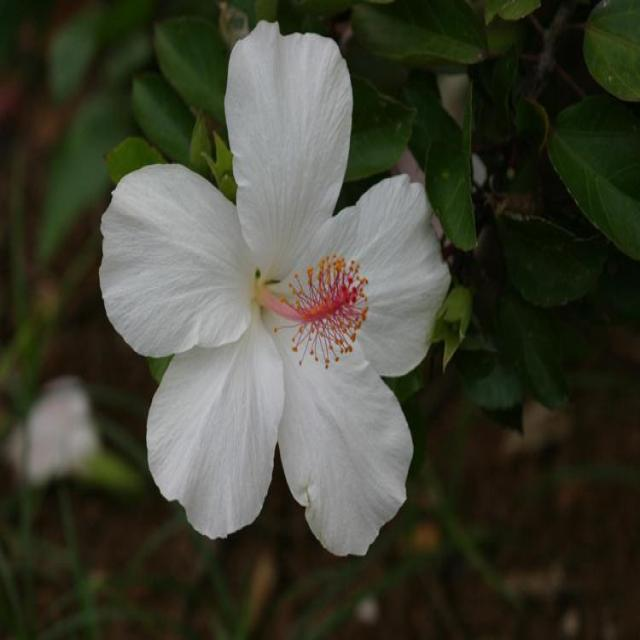hibiscus: (65, 23, 445, 582)
